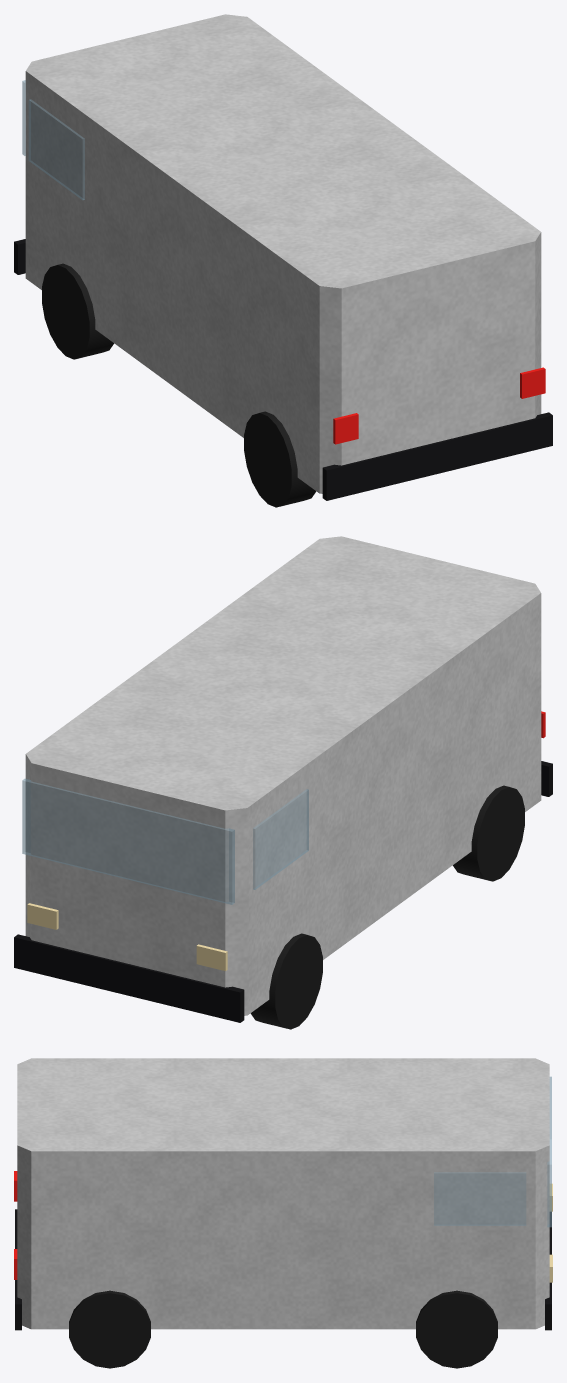
The model's file is van.obj.
3 views of the same model, one above another, from view 1: azimuth 30°, elevation 25°; view 2: azimuth 150°, elevation 25°; view 3: azimuth 270°, elevation 25° (orthographic). The views are drawn at different scales.
Parts seen in each view (by area): view 1: van; view 2: van; view 3: van.
Boxes of the visible parts, x1,y1,x2,y2 form: van: (14, 14, 552, 507); van: (14, 536, 552, 1029); van: (14, 1058, 552, 1368).
Bounding box in the file's own units: 2 × 2.05 × 4.66.
Materials: 6 (1 with a texture image).
